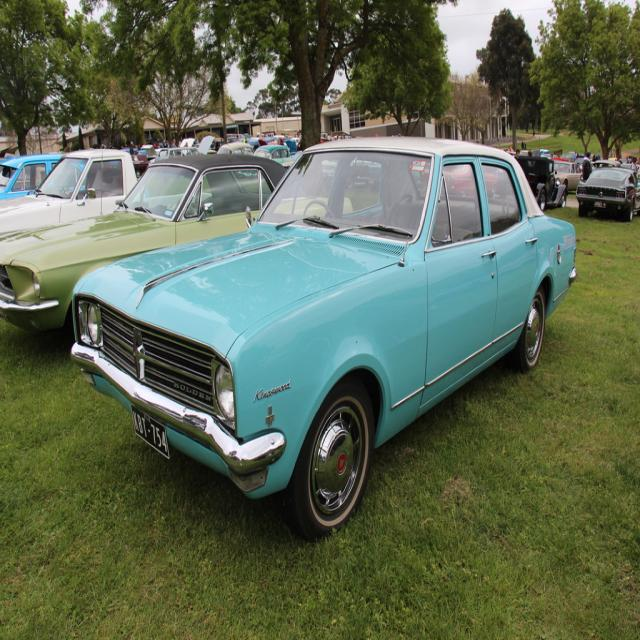car: (68, 132, 576, 545), (578, 163, 639, 223)
